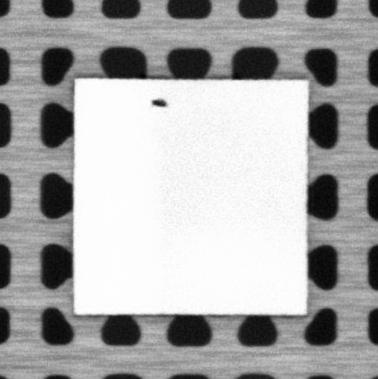DIE_INK: (150, 96, 168, 108)
